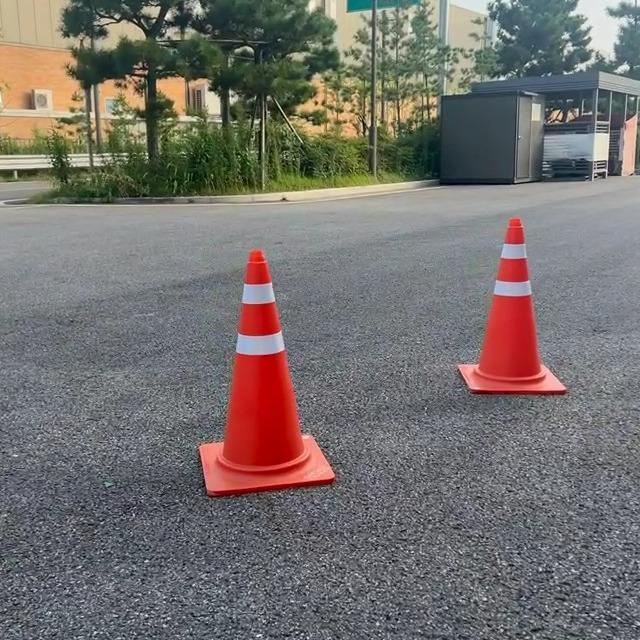fallen_object: (146, 220, 361, 498), (413, 212, 595, 444)
